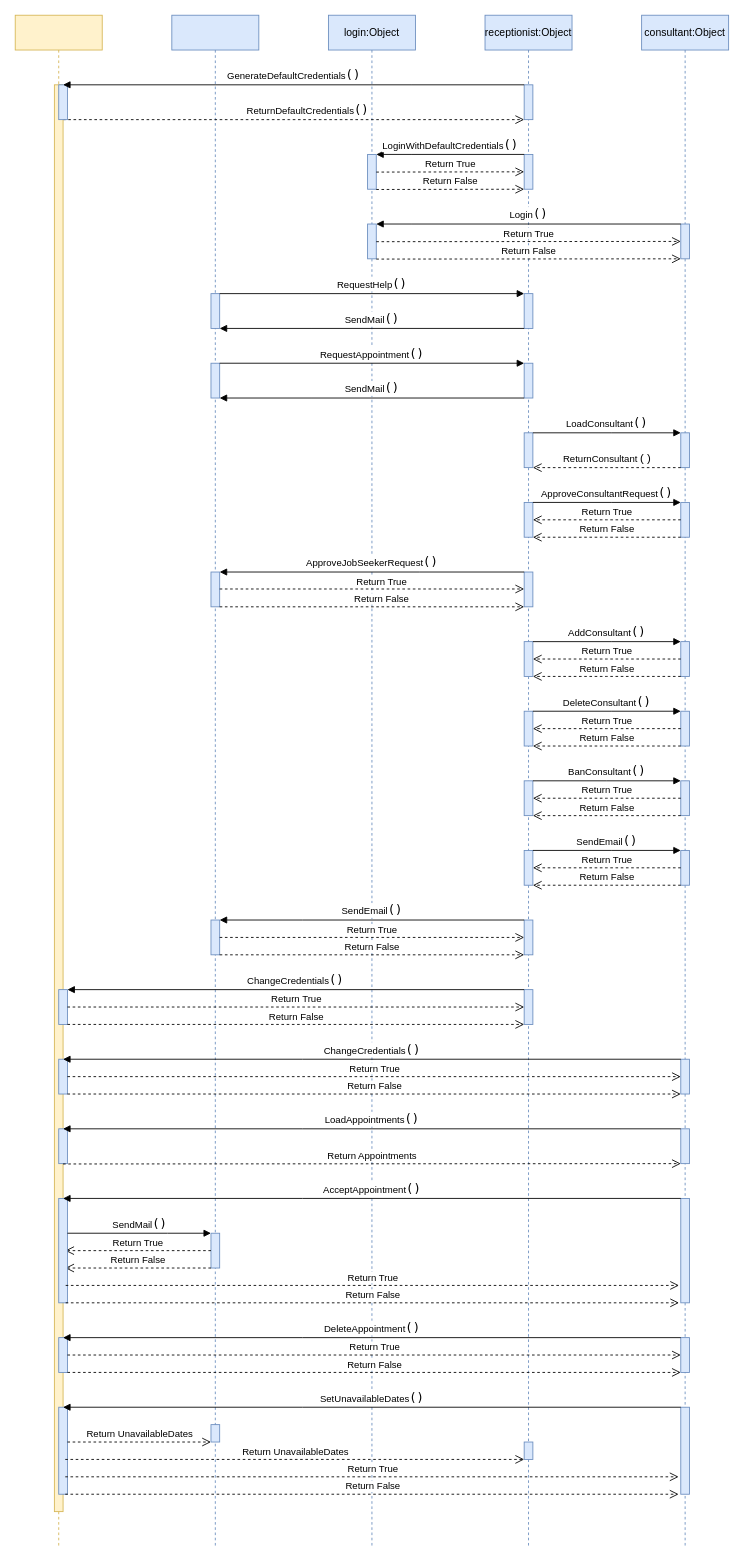
The diagram is 744 pixels wide and 1562 high, and some of its shapes have lost their labels. The shapes that lost their labels are listed below. From the top down, each one's box as (x1, y1, x2, y2) in pixels, then its label:
(14, 14, 102, 1546): system:Object
(171, 14, 259, 1546): jobSeeker:Object
